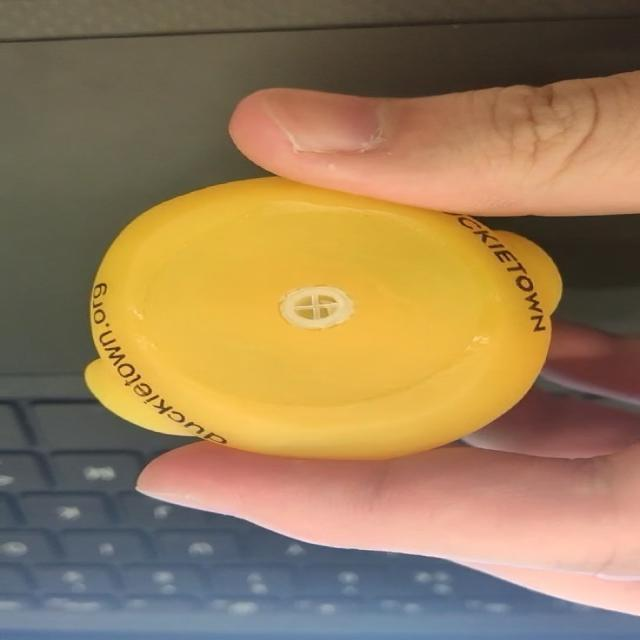rubber-duck: (84, 176, 560, 457)
